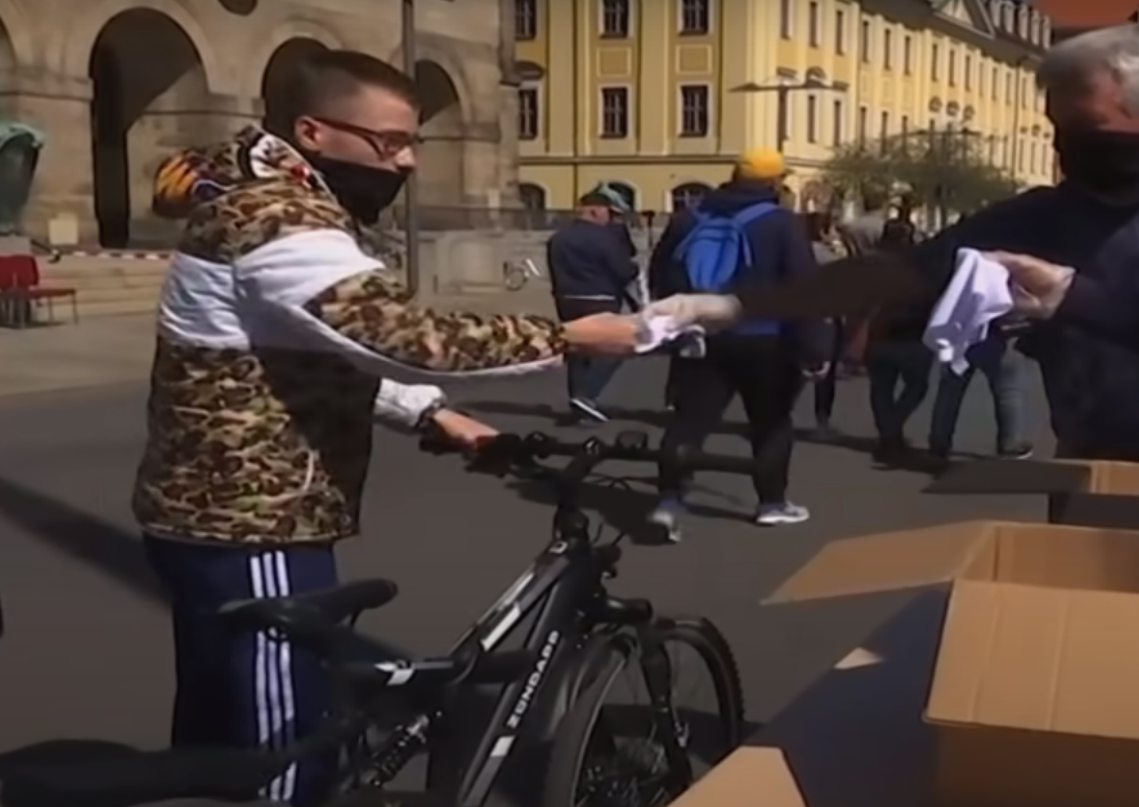mask_weared_incorrect: (266, 47, 429, 222)
